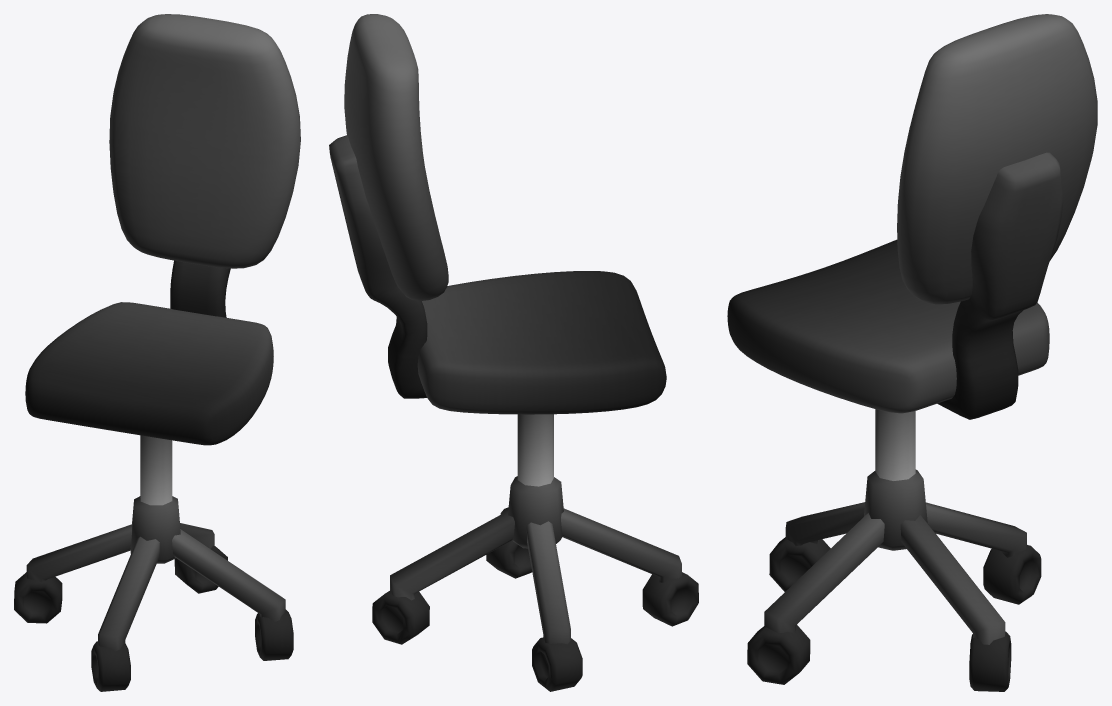
Rendered from chair.fbx.
The picture shows the model from 3 angles, left to right: view 1: azimuth 30°, elevation 25°; view 2: azimuth 150°, elevation 25°; view 3: azimuth 270°, elevation 25°; orthographic projection. The views are drawn at different scales.
Visible parts, largest first — view 1: chair; view 2: chair; view 3: chair.
Boxes of the visible parts, x1,y1,x2,y2 form: chair: (14,14,300,691); chair: (329,14,698,691); chair: (727,14,1097,691).
Bounding box in the file's own units: 50.52 × 96.67 × 48.89.
